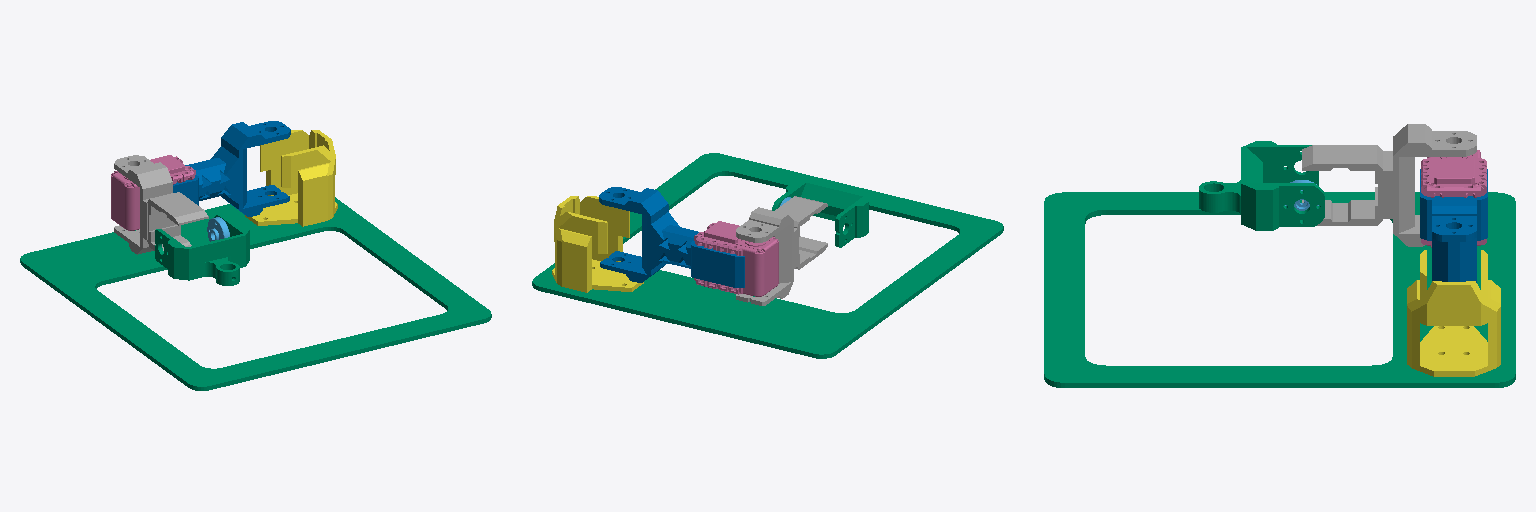
robot.urdf — FPGA_bot:
<?xml version='1.0' encoding='utf-8'?>
<robot name="FPGA_bot">
    <link name="AX-12A-02">
        <inertial>
            <origin xyz="0.0004775574469091648 -5.827164262228735e-09 0.02385609451097132" rpy="0.0 -0.0 0.0" />
            <mass value="0.32390152119562815" />
            <inertia ixx="7.890001762359596e-05" iyy="9.10337982403032e-05" izz="4.960220935442284e-05" ixy="2.0839870194105936e-11" iyz="6.897859844076648e-11" ixz="1.6464754014779539e-06" />
        </inertial>
        <visual name="AX-12A-02_visual">
            <origin xyz="0.013500000000000033 0.0 0.03699999944865695" rpy="5.7475132325822575e-46 1.5707963267948954 0" />
            <geometry>
                <mesh filename="package://fpga_bot_fpga_bot_description/meshes/AX-12A-02.stl" scale="0.001 0.001 0.001" />
            </geometry>
        </visual>
        <collision name="AX-12A-02_collision">
            <origin xyz="0.013500000000000033 0.0 0.03699999944865695" rpy="5.7475132325822575e-46 1.5707963267948954 0" />
            <geometry>
                <mesh filename="package://fpga_bot_fpga_bot_description/meshes/AX-12A-02.stl" scale="0.001 0.001 0.001" />
            </geometry>
        </collision>
    </link>
    <link name="AX-12A-04">
        <inertial>
            <origin xyz="5.512533540752429e-10 -1.7763568394002505e-17 0.0020767750500773107" rpy="0.0 -0.0 0.0" />
            <mass value="0.013145620261527293" />
            <inertia ixx="4.2556522474073355e-07" iyy="4.255652253532671e-07" izz="7.952268273435782e-07" ixy="-1.3552527156068805e-20" iyz="2.710505431213761e-20" ixz="-2.236166980751353e-18" />
        </inertial>
        <visual name="AX-12A-04_visual">
            <origin xyz="5.513430423320642e-10 0.0 0.004500000000000028" rpy="-5.071403158464064e-22 -1.985233470127261e-22 -5.138677268548816e-53" />
            <geometry>
                <mesh filename="package://fpga_bot_fpga_bot_description/meshes/AX-12A-04.stl" scale="0.001 0.001 0.001" />
            </geometry>
        </visual>
        <collision name="AX-12A-04_collision">
            <origin xyz="5.513430423320642e-10 0.0 0.004500000000000028" rpy="-5.071403158464064e-22 -1.985233470127261e-22 -5.138677268548816e-53" />
            <geometry>
                <mesh filename="package://fpga_bot_fpga_bot_description/meshes/AX-12A-04.stl" scale="0.001 0.001 0.001" />
            </geometry>
        </collision>
    </link>
    <link name="plate">
        <inertial>
            <origin xyz="-0.06011025200913953 -0.062292971575455484 -0.0385" rpy="0.0 0.0 0.0" />
            <mass value="0.5548736897893473" />
            <inertia ixx="0.003500086381477631" iyy="0.003077615843439447" izz="0.006576869914382395" ixy="3.810831036574855e-06" iyz="3.3203691532368573e-19" ixz="-4.3145740750765924e-20" />
        </inertial>
        <visual name="plate_visual">
            <origin xyz="0.0 0.0 0.0" rpy="0.0 0.0 0.0" />
            <geometry>
                <mesh filename="package://fpga_bot_fpga_bot_description/meshes/plate.stl" scale="0.001 0.001 0.001" />
            </geometry>
        </visual>
        <collision name="plate_collision">
            <origin xyz="0.0 0.0 0.0" rpy="0.0 0.0 0.0" />
            <geometry>
                <mesh filename="package://fpga_bot_fpga_bot_description/meshes/plate.stl" scale="0.001 0.001 0.001" />
            </geometry>
        </collision>
    </link>
    <link name="Motor_holder_plate">
        <inertial>
            <origin xyz="-0.0010491940230658336 0.006000000000000014 0.02043335893321079" rpy="0.0 -0.0 0.0" />
            <mass value="0.1791312239025152" />
            <inertia ixx="8.533702654904031e-05" iyy="6.337964634902825e-05" izz="6.800406458345749e-05" ixy="2.168404344971009e-19" iyz="-5.421010862427522e-20" ixz="-5.3519017307861335e-06" />
        </inertial>
        <visual name="Motor_holder_plate_visual">
            <origin xyz="-0.022499999999999947 0.005999999999999997 0.037000000000000026" rpy="-6.162975822039066e-33 1.1657341758564144e-15 0.0" />
            <geometry>
                <mesh filename="package://fpga_bot_fpga_bot_description/meshes/Motor_holder_plate.stl" scale="0.001 0.001 0.001" />
            </geometry>
        </visual>
        <collision name="Motor_holder_plate_collision">
            <origin xyz="-0.022499999999999947 0.005999999999999997 0.037000000000000026" rpy="-6.162975822039066e-33 1.1657341758564144e-15 0.0" />
            <geometry>
                <mesh filename="package://fpga_bot_fpga_bot_description/meshes/Motor_holder_plate.stl" scale="0.001 0.001 0.001" />
            </geometry>
        </collision>
    </link>
    <link name="2nd_motor_arm90deg">
        <inertial>
            <origin xyz="-0.040195252977123674 0.00010019366635527049 -0.020620760616514112" rpy="0.0 -0.0 0.0" />
            <mass value="0.2605961471797569" />
            <inertia ixx="6.273259040474573e-05" iyy="0.00019487221554548046" izz="0.00016749966326599962" ixy="2.3490097782337925e-07" iyz="8.917058413058024e-09" ixz="-5.848948483657448e-06" />
        </inertial>
        <visual name="2nd_motor_arm90deg_visual">
            <origin xyz="5.513432999038059e-10 -0.1000000000000002 -0.021000000000000078" rpy="1.8151019493291513e-18 -2.9102856759964347e-22 -1.5707963267948943" />
            <geometry>
                <mesh filename="package://fpga_bot_fpga_bot_description/meshes/2nd_motor_arm90deg.stl" scale="0.001 0.001 0.001" />
            </geometry>
        </visual>
        <collision name="2nd_motor_arm90deg_collision">
            <origin xyz="5.513432999038059e-10 -0.1000000000000002 -0.021000000000000078" rpy="1.8151019493291513e-18 -2.9102856759964347e-22 -1.5707963267948943" />
            <geometry>
                <mesh filename="package://fpga_bot_fpga_bot_description/meshes/2nd_motor_arm90deg.stl" scale="0.001 0.001 0.001" />
            </geometry>
        </collision>
    </link>
    <link name="AX-12A-041">
        <inertial>
            <origin xyz="1.1025960233723708e-09 -1.9539925233402755e-16 0.0020767735388075616" rpy="0.0 -0.0 0.0" />
            <mass value="0.013145620261527293" />
            <inertia ixx="4.2556522474076065e-07" iyy="4.255652253532671e-07" izz="7.952268273435782e-07" ixy="3.81432317681084e-39" iyz="2.710505431213761e-20" ixz="-2.23955511254037e-18" />
        </inertial>
        <visual name="AX-12A-041_visual">
            <origin xyz="1.1026857116291921e-09 -1.9539925233402755e-16 0.0044999984887302705" rpy="-1.487644743403084e-16 -1.9852334701272612e-22 2.7755575615629027e-16" />
            <geometry>
                <mesh filename="package://fpga_bot_fpga_bot_description/meshes/AX-12A-041.stl" scale="0.001 0.001 0.001" />
            </geometry>
        </visual>
        <collision name="AX-12A-041_collision">
            <origin xyz="1.1026857116291921e-09 -1.9539925233402755e-16 0.0044999984887302705" rpy="-1.487644743403084e-16 -1.9852334701272612e-22 2.7755575615629027e-16" />
            <geometry>
                <mesh filename="package://fpga_bot_fpga_bot_description/meshes/AX-12A-041.stl" scale="0.001 0.001 0.001" />
            </geometry>
        </collision>
    </link>
    <link name="AX-12A-021">
        <inertial>
            <origin xyz="-0.023856093959628687 0.0004775559356395576 5.827164404337282e-09" rpy="0.0 -0.0 0.0" />
            <mass value="0.32390152119562815" />
            <inertia ixx="4.960220935442371e-05" iyy="7.89000176235951e-05" izz="9.103379824030309e-05" ixy="-1.6464754014779539e-06" iyz="-2.083987041094637e-11" ixz="6.897859833234626e-11" />
        </inertial>
        <visual name="AX-12A-021_visual">
            <origin xyz="-0.036999998897314305 0.013499998488730328 1.4210854715202004e-16" rpy="-1.5707963267948968 2.775557561562899e-16 1.8151019493286186e-18" />
            <geometry>
                <mesh filename="package://fpga_bot_fpga_bot_description/meshes/AX-12A-021.stl" scale="0.001 0.001 0.001" />
            </geometry>
        </visual>
        <collision name="AX-12A-021_collision">
            <origin xyz="-0.036999998897314305 0.013499998488730328 1.4210854715202004e-16" rpy="-1.5707963267948968 2.775557561562899e-16 1.8151019493286186e-18" />
            <geometry>
                <mesh filename="package://fpga_bot_fpga_bot_description/meshes/AX-12A-021.stl" scale="0.001 0.001 0.001" />
            </geometry>
        </collision>
    </link>
    <link name="new_2nd_arm_bothsamedirection-v1">
        <inertial>
            <origin xyz="0.00017437366938449994 -0.02985835547607774 -0.01997933512757073" rpy="0.0 -0.0 0.0" />
            <mass value="0.19255111641644582" />
            <inertia ixx="0.00010538646765974194" iyy="5.766623194024961e-05" izz="6.205041311811927e-05" ixy="6.707539424499536e-07" iyz="-2.56198313386153e-06" ixz="1.7968134400389406e-08" />
        </inertial>
        <visual name="new_2nd_arm_bothsamedirection-v1_visual">
            <origin xyz="0.15138807387108918 -8.881784197001253e-17 -0.04830856887228711" rpy="-1.4876396719999184e-16 4.129022648788754e-32 2.775557561562902e-16" />
            <geometry>
                <mesh filename="package://fpga_bot_fpga_bot_description/meshes/new_2nd_arm_bothsamedirection-v1.stl" scale="0.001 0.001 0.001" />
            </geometry>
        </visual>
        <collision name="new_2nd_arm_bothsamedirection-v1_collision">
            <origin xyz="0.15138807387108918 -8.881784197001253e-17 -0.04830856887228711" rpy="-1.4876396719999184e-16 4.129022648788754e-32 2.775557561562902e-16" />
            <geometry>
                <mesh filename="package://fpga_bot_fpga_bot_description/meshes/new_2nd_arm_bothsamedirection-v1.stl" scale="0.001 0.001 0.001" />
            </geometry>
        </collision>
    </link>
    <link name="AX-12A-022">
        <inertial>
            <origin xyz="0.0004775526848829159 -8.301174077018914e-09 0.023856091109291686" rpy="0.0 -0.0 0.0" />
            <mass value="0.32390152119562815" />
            <inertia ixx="7.890001762359683e-05" iyy="9.103379824030255e-05" izz="4.960220935442414e-05" ixy="2.0839870194105936e-11" iyz="6.897859833234626e-11" ixz="1.6464754014779539e-06" />
        </inertial>
        <visual name="AX-12A-022_visual">
            <origin xyz="0.01349999523797377 -2.474009810349287e-09 0.03699999604697733" rpy="-0.0 1.5707963267948963 0" />
            <geometry>
                <mesh filename="package://fpga_bot_fpga_bot_description/meshes/AX-12A-022.stl" scale="0.001 0.001 0.001" />
            </geometry>
        </visual>
        <collision name="AX-12A-022_collision">
            <origin xyz="0.01349999523797377 -2.474009810349287e-09 0.03699999604697733" rpy="-0.0 1.5707963267948963 0" />
            <geometry>
                <mesh filename="package://fpga_bot_fpga_bot_description/meshes/AX-12A-022.stl" scale="0.001 0.001 0.001" />
            </geometry>
        </collision>
    </link>
    <link name="AX-12A-042">
        <inertial>
            <origin xyz="0.0020767702880510486 3.95302263811459e-09 -2.4739201220924656e-09" rpy="0.0 -0.0 0.0" />
            <mass value="0.013145620261527293" />
            <inertia ixx="7.952268273436663e-07" iyy="4.2556522535328744e-07" izz="4.255652247408013e-07" ixy="-1.9603854839823683e-38" iyz="-5.50236125017143e-50" ixz="2.2327788489623357e-18" />
        </inertial>
        <visual name="AX-12A-042_visual">
            <origin xyz="0.004499995237973771 3.953022646996374e-09 -2.474009810349287e-09" rpy="-2.7755575615629007e-16 1.5707963267948946 0" />
            <geometry>
                <mesh filename="package://fpga_bot_fpga_bot_description/meshes/AX-12A-042.stl" scale="0.001 0.001 0.001" />
            </geometry>
        </visual>
        <collision name="AX-12A-042_collision">
            <origin xyz="0.004499995237973771 3.953022646996374e-09 -2.474009810349287e-09" rpy="-2.7755575615629007e-16 1.5707963267948946 0" />
            <geometry>
                <mesh filename="package://fpga_bot_fpga_bot_description/meshes/AX-12A-042.stl" scale="0.001 0.001 0.001" />
            </geometry>
        </collision>
    </link>
    <link name="pencil_holder_v2">
        <inertial>
            <origin xyz="-0.01970496178457984 -0.021336590766325787 -0.0006275359579855478" rpy="0.0 -0.0 0.0" />
            <mass value="0.12670142746144467" />
            <inertia ixx="2.007973010216405e-05" iyy="4.346229586575266e-05" izz="5.454636599275034e-05" ixy="-1.6871998019554703e-06" iyz="-1.3697947469247713e-06" ixz="-6.059128008147909e-08" />
        </inertial>
        <visual name="pencil_holder_v2_visual">
            <origin xyz="-0.04830857212304362 3.953022340574819e-09 -0.15138807524241327" rpy="-2.7755575615629096e-16 1.5707963267948946 0" />
            <geometry>
                <mesh filename="package://fpga_bot_fpga_bot_description/meshes/pencil_holder_v2.stl" scale="0.001 0.001 0.001" />
            </geometry>
        </visual>
        <collision name="pencil_holder_v2_collision">
            <origin xyz="-0.04830857212304362 3.953022340574819e-09 -0.15138807524241327" rpy="-2.7755575615629096e-16 1.5707963267948946 0" />
            <geometry>
                <mesh filename="package://fpga_bot_fpga_bot_description/meshes/pencil_holder_v2.stl" scale="0.001 0.001 0.001" />
            </geometry>
        </collision>
    </link>
    <joint name="plate_Rigid-4" type="fixed">
        <origin xyz="0.0225 -0.005999999999999997 -0.037000000000000005" rpy="0.0 -0.0 0.0" />
        <parent link="plate" />
        <child link="Motor_holder_plate" />
    </joint>
    <joint name="Motor_holder_plate_Rigid-5" type="fixed">
        <origin xyz="0.014499999999999994 0.005999999999999997 0.037000000000000005" rpy="-0.0 -1.5707963267948966 0" />
        <parent link="Motor_holder_plate" />
        <child link="AX-12A-02" />
    </joint>
    <joint name="AX-12A-02_Revolute-6" type="continuous">
        <origin xyz="0.01625 0.0 0.03699999999999999" rpy="-0.0 1.5707963267948966 0" />
        <parent link="AX-12A-02" />
        <child link="AX-12A-04" />
        <axis xyz="0.0 0.0 1.0" />
    </joint>
    <joint name="AX-12A-04_Rigid-7" type="fixed">
        <origin xyz="0.0 0.0 0.004500000000000002" rpy="0.0 -2.350988701644575e-38 0.0" />
        <parent link="AX-12A-04" />
        <child link="2nd_motor_arm90deg" />
    </joint>
    <joint name="2nd_motor_arm90deg_Rigid-8" type="fixed">
        <origin xyz="-0.063 0.0 -0.021467020000000003" rpy="1.5707963267948966 2.350988701644575e-38 3.944304526104212e-31" />
        <parent link="2nd_motor_arm90deg" />
        <child link="AX-12A-021" />
    </joint>
    <joint name="AX-12A-021_Revolute-9" type="continuous">
        <origin xyz="-0.037000000000000005 0.01625 0.0" rpy="-1.5707963267948966 -4.440042809535891e-31 0.0" />
        <parent link="AX-12A-021" />
        <child link="AX-12A-041" />
        <axis xyz="0.0 0.0 1.0" />
    </joint>
    <joint name="AX-12A-041_Rigid-10" type="fixed">
        <origin xyz="0.0 0.0 0.004500000000000002" rpy="0.0 -0.0 4.957379881004711e-32" />
        <parent link="AX-12A-041" />
        <child link="new_2nd_arm_bothsamedirection-v1" />
    </joint>
    <joint name="new_2nd_arm_bothsamedirection-v1_Rigid-11" type="fixed">
        <origin xyz="0.0005898000000000004 -0.03725339 -0.020512429999999998" rpy="1.5707963267948966 -0.0 2.9533120689576276e-38" />
        <parent link="new_2nd_arm_bothsamedirection-v1" />
        <child link="AX-12A-022" />
    </joint>
    <joint name="AX-12A-022_Revolute-12" type="continuous">
        <origin xyz="0.01625 0.0 0.037000000000000005" rpy="-1.5707963267948966 -6.142497898924336e-48 -5.25369090118809e-47" />
        <parent link="AX-12A-022" />
        <child link="AX-12A-042" />
        <axis xyz="1.0 -2.465190328815662e-32 0.0" />
    </joint>
    <joint name="AX-12A-042_Rigid-13" type="fixed">
        <origin xyz="0.0045 0.0 0.0" rpy="-4.285127577202577e-38 -5.25369090118809e-47 0.0" />
        <parent link="AX-12A-042" />
        <child link="pencil_holder_v2" />
    </joint>
</robot>

--- Facts derived from the render (not from the file) ---
Views: 3 orthographic renders of the robot side by side, from view 1: azimuth 30°, elevation 25°; view 2: azimuth 150°, elevation 25°; view 3: azimuth 270°, elevation 25°.
Model FPGA_bot with 11 links and 10 joints (3 continuous, 7 fixed), rooted at plate, posed all joints at 0.
Links seen in each view (by area): view 1: plate, Motor_holder_plate, 2nd_motor_arm90deg, new_2nd_arm_bothsamedirection-v1, pencil_holder_v2, AX-12A-021; view 2: plate, 2nd_motor_arm90deg, Motor_holder_plate, new_2nd_arm_bothsamedirection-v1, AX-12A-021, pencil_holder_v2; view 3: plate, Motor_holder_plate, new_2nd_arm_bothsamedirection-v1, pencil_holder_v2, 2nd_motor_arm90deg, AX-12A-021.
Boxes of the visible links, <box> form: plate: <box>20,197,491,390</box>; Motor_holder_plate: <box>245,130,337,226</box>; 2nd_motor_arm90deg: <box>173,121,290,216</box>; new_2nd_arm_bothsamedirection-v1: <box>114,155,208,254</box>; pencil_holder_v2: <box>155,214,249,285</box>; AX-12A-021: <box>111,155,195,230</box>; plate: <box>532,153,1003,358</box>; 2nd_motor_arm90deg: <box>599,187,744,287</box>; Motor_holder_plate: <box>552,196,643,292</box>; new_2nd_arm_bothsamedirection-v1: <box>736,196,827,305</box>; AX-12A-021: <box>694,221,778,296</box>; pencil_holder_v2: <box>772,181,868,247</box>; plate: <box>1044,192,1515,387</box>; Motor_holder_plate: <box>1407,250,1500,376</box>; new_2nd_arm_bothsamedirection-v1: <box>1302,124,1476,246</box>; pencil_holder_v2: <box>1199,141,1324,230</box>; 2nd_motor_arm90deg: <box>1420,169,1487,282</box>; AX-12A-021: <box>1421,150,1486,247</box>.
Bounding box of the posed robot: 0.22 × 0.23 × 0.0683 m (x, y, z).
Meshes: 11 distinct files referenced, 7 mesh visuals loaded (7 binary STL); not drawn: 4 (reference not matched to a file when rendering).